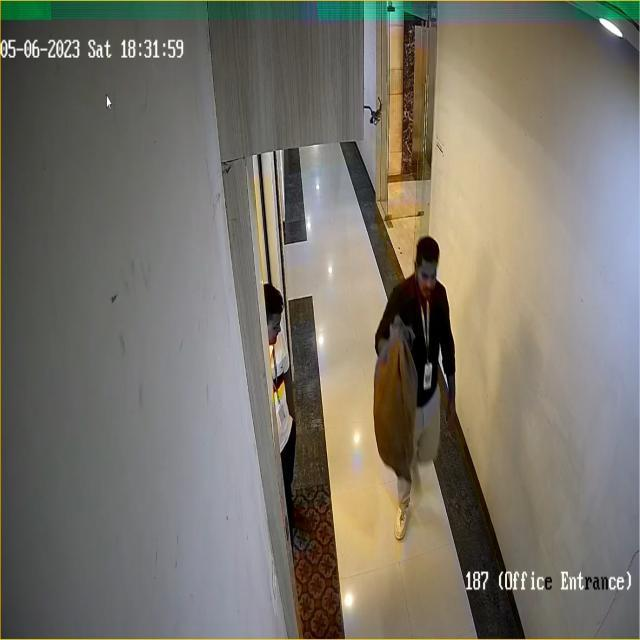gunny_bag: (375, 320, 417, 485)
